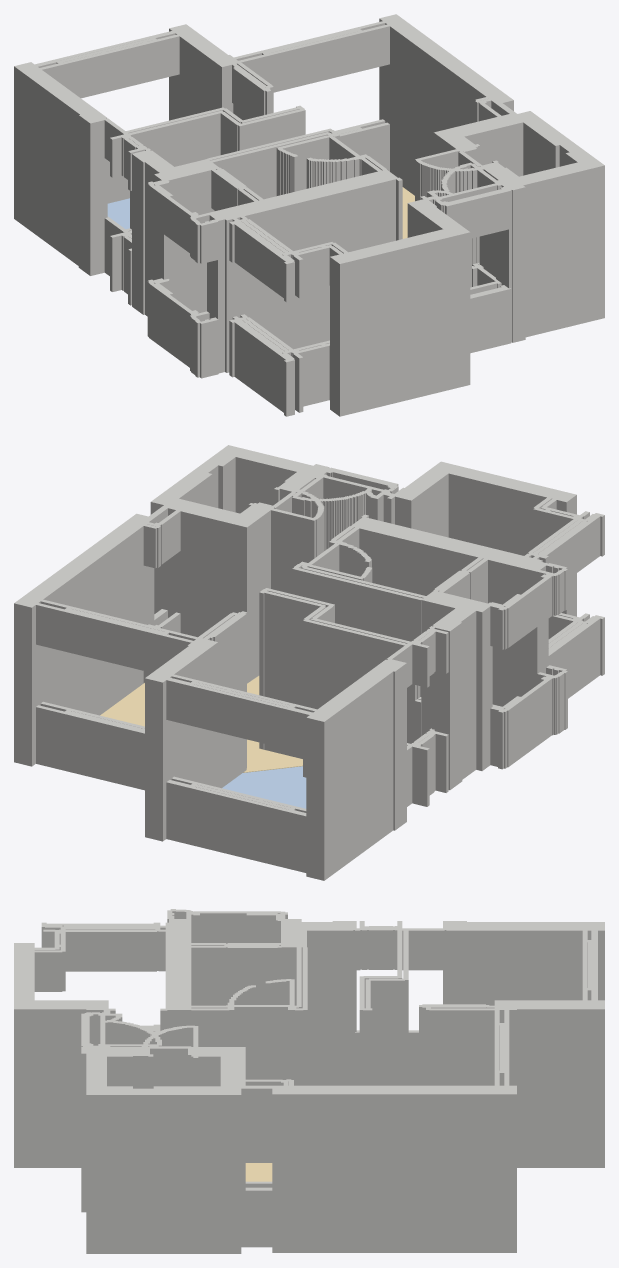
3 views of the same model, one above another, from view 1: azimuth 30°, elevation 25°; view 2: azimuth 150°, elevation 25°; view 3: azimuth 270°, elevation 25° (orthographic). The views are drawn at different scales.
Parts seen in each view (by area): view 1: walls, room:bedroom:4; view 2: walls, room:living:3, room:bedroom:4; view 3: walls, room:living:3.
Boxes of the visible parts, x1,y1,x2,y2 form: walls: (14,14,604,416); room:bedroom:4: (107,198,129,229); walls: (14,445,604,880); room:living:3: (100,676,302,772); room:bedroom:4: (222,766,306,808); walls: (14,909,604,1253); room:living:3: (245,1163,272,1181).
Size of the model in its own units: 7.04 by 2.8 by 9.45.
